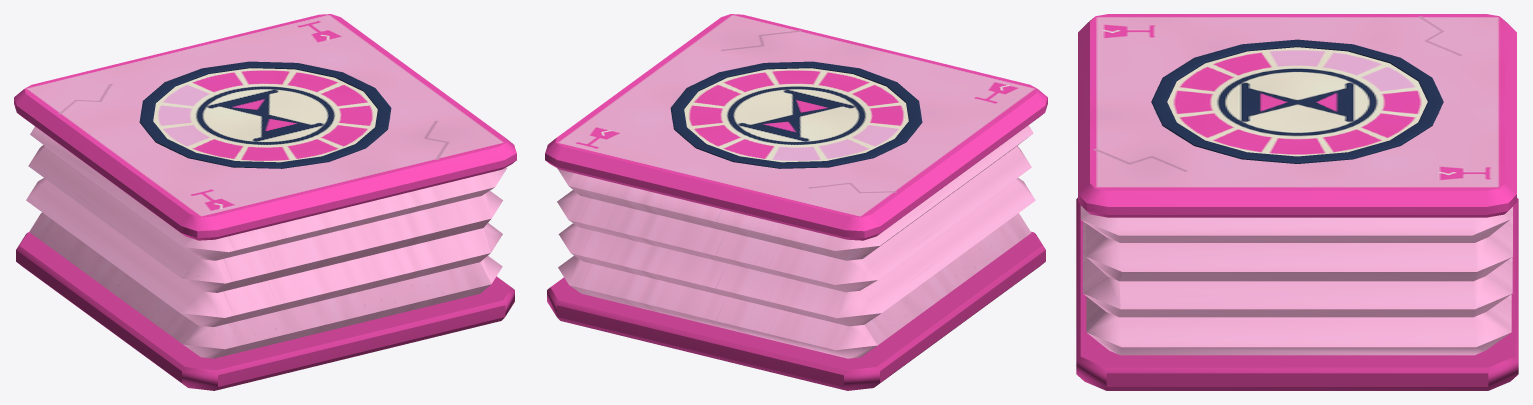
File: reception_accordion_parcel_lod1.glb
3 renders of one model, left to right at view 1: azimuth 30°, elevation 25°; view 2: azimuth 150°, elevation 25°; view 3: azimuth 270°, elevation 25°, orthographic. The views are drawn at different scales.
Visible parts, largest first — view 1: reception_accordion_parcel_LOD1; view 2: reception_accordion_parcel_LOD1; view 3: reception_accordion_parcel_LOD1.
Boxes of the visible parts, bbox=[...] form: reception_accordion_parcel_LOD1: bbox=[14, 14, 516, 390]; reception_accordion_parcel_LOD1: bbox=[545, 14, 1047, 390]; reception_accordion_parcel_LOD1: bbox=[1076, 14, 1518, 390].
Bounding box in the file's own units: 8 × 4 × 8.
Materials: 1 (1 with a texture image).
